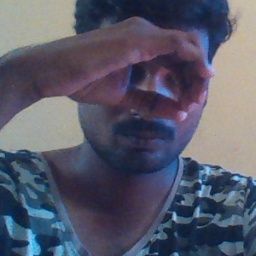O: (45, 17, 217, 125)
